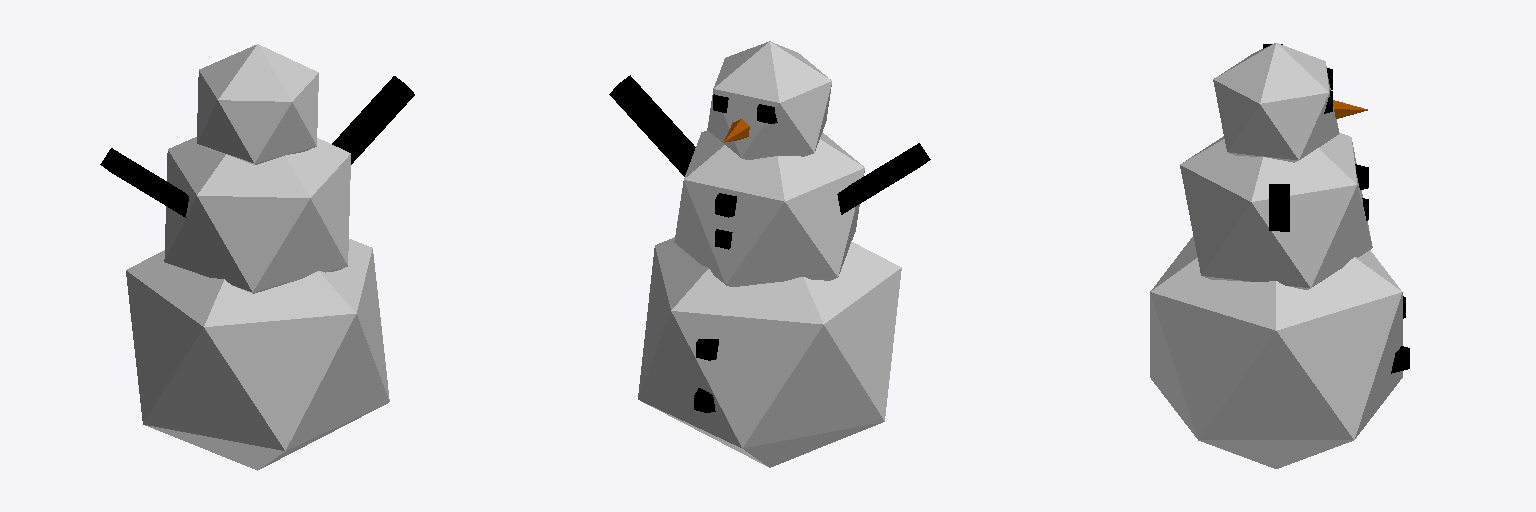
Rendered from snowman.obj.
3 renders of one model, left to right at view 1: azimuth 30°, elevation 25°; view 2: azimuth 150°, elevation 25°; view 3: azimuth 270°, elevation 25°, orthographic.
Visible parts, largest first — view 1: Cube.009_Cube.010; view 2: Cube.009_Cube.010; view 3: Cube.009_Cube.010.
Boxes of the visible parts, x1,y1,x2,y2 form: Cube.009_Cube.010: [100, 44, 414, 470]; Cube.009_Cube.010: [609, 41, 930, 467]; Cube.009_Cube.010: [1150, 43, 1409, 468].
Bounding box in the file's own units: 5.1 × 6.75 × 3.72.